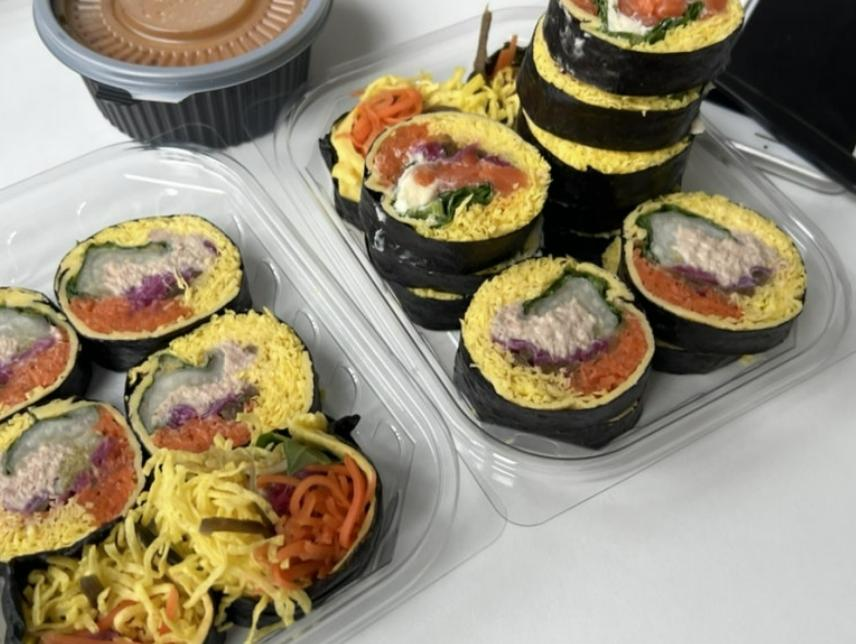Lunch Box: (247, 0, 855, 525), (0, 124, 505, 643), (33, 0, 331, 146)
